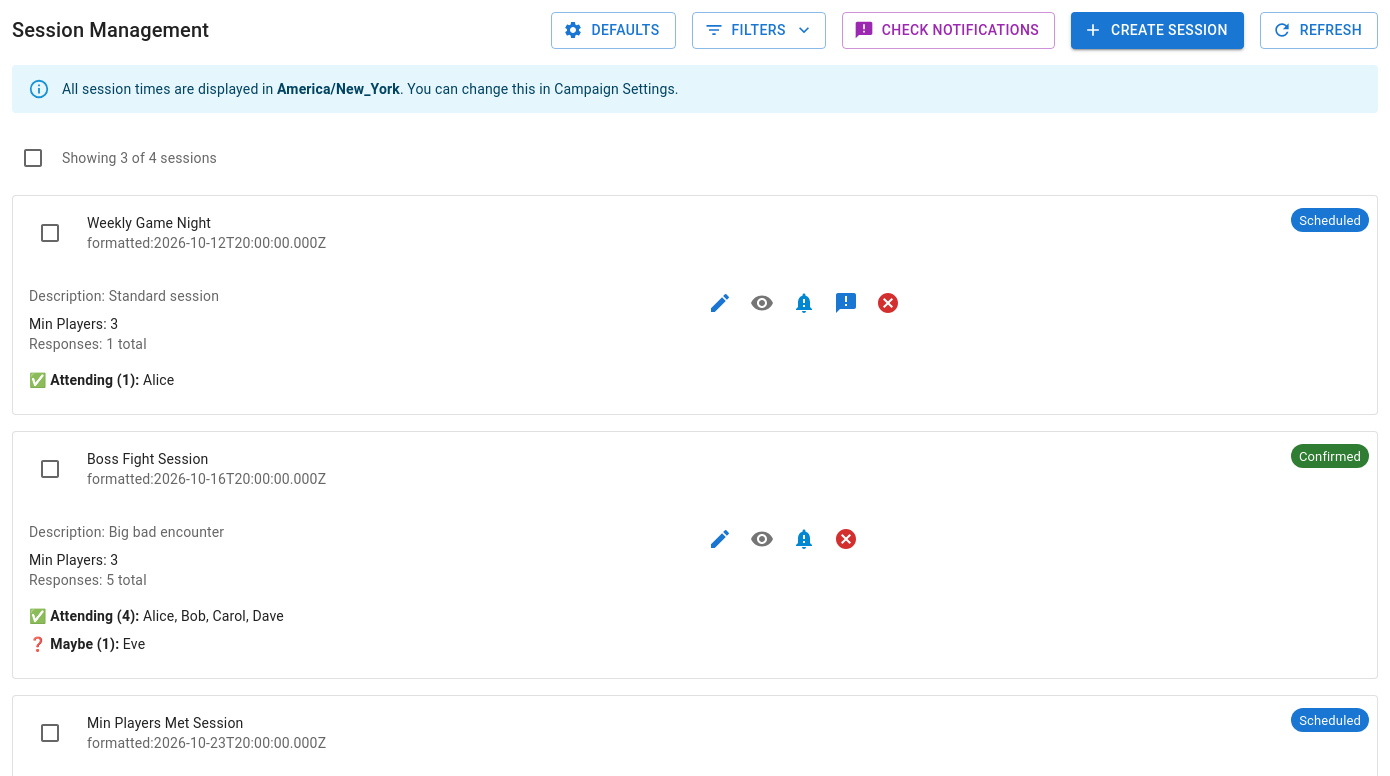
Test: SessionManagement › Status filters › toggling Confirmed off hides confirmed sessions; toggling Cancelled on shows them
Expected: the text "Boss Fight Session" is shown, left=87, top=451, right=208, bottom=467
// Open the filters panel
Click the button "Filters" at (759, 30), box left=692, top=12, right=826, bottom=48
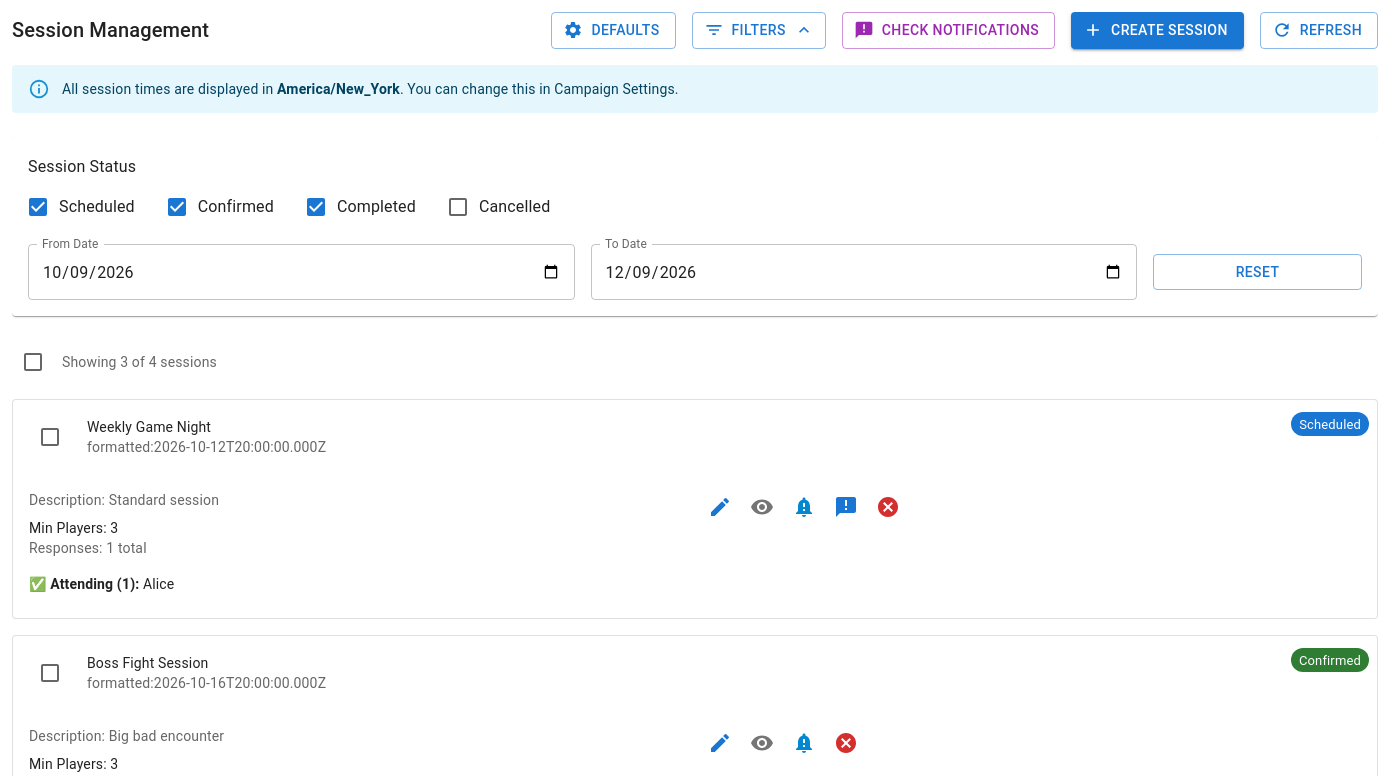
Click the 1st checkbox labelled "Confirmed" at (219, 207), box left=165, top=195, right=274, bottom=219
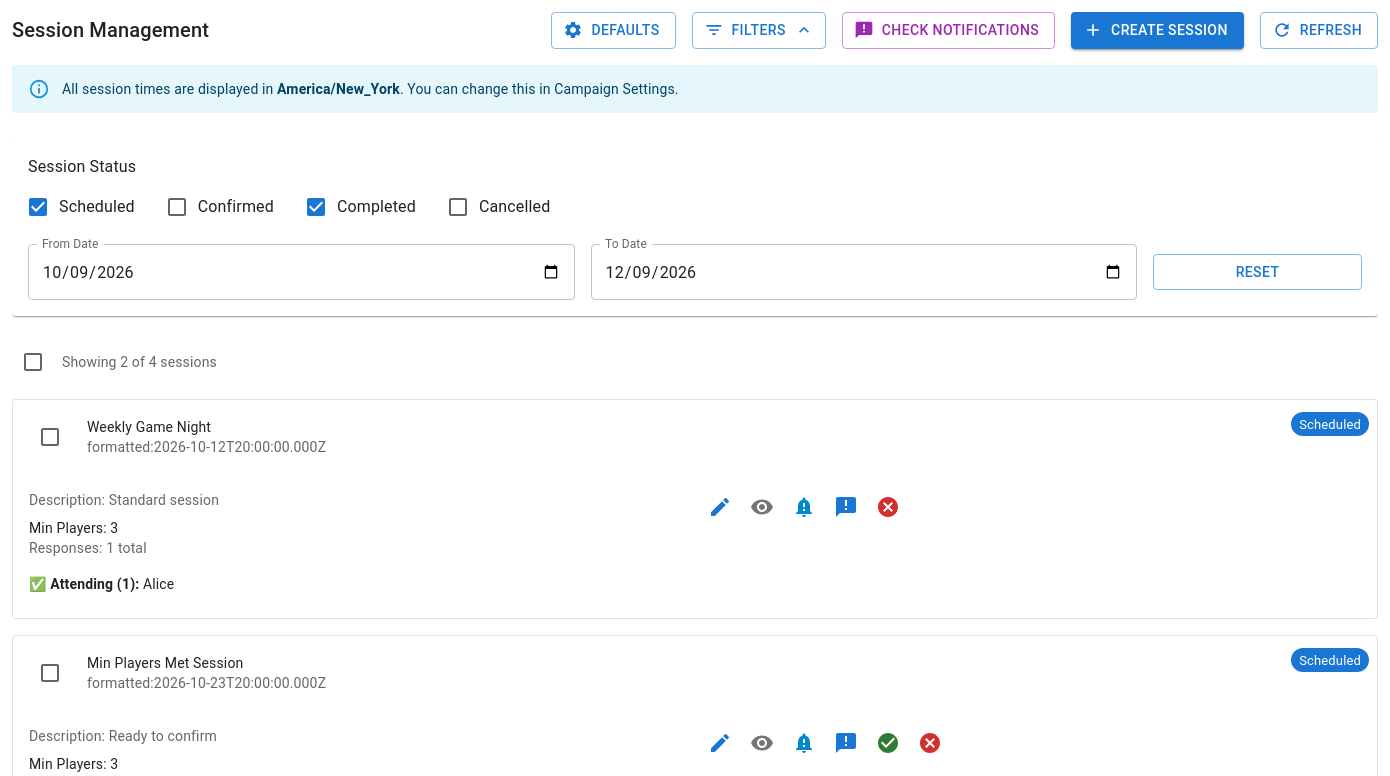
Expected: the text "Boss Fight Session" is gone
// Toggling Cancelled on (it's off by default) should reveal the cancelled card.
Click the 1st checkbox labelled "Cancelled" at (498, 207), box left=446, top=195, right=550, bottom=219
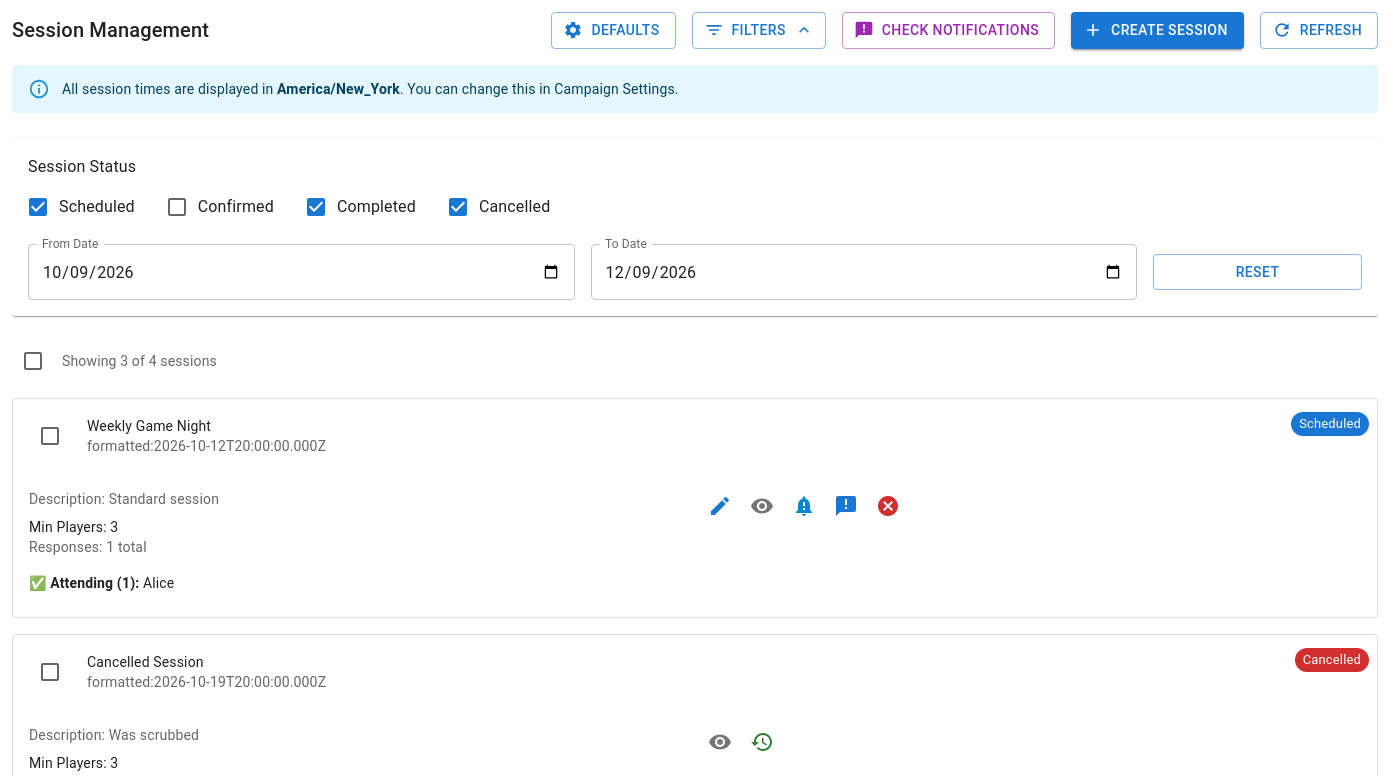
Expected: the text "Cancelled Session" is shown, left=87, top=654, right=204, bottom=670
